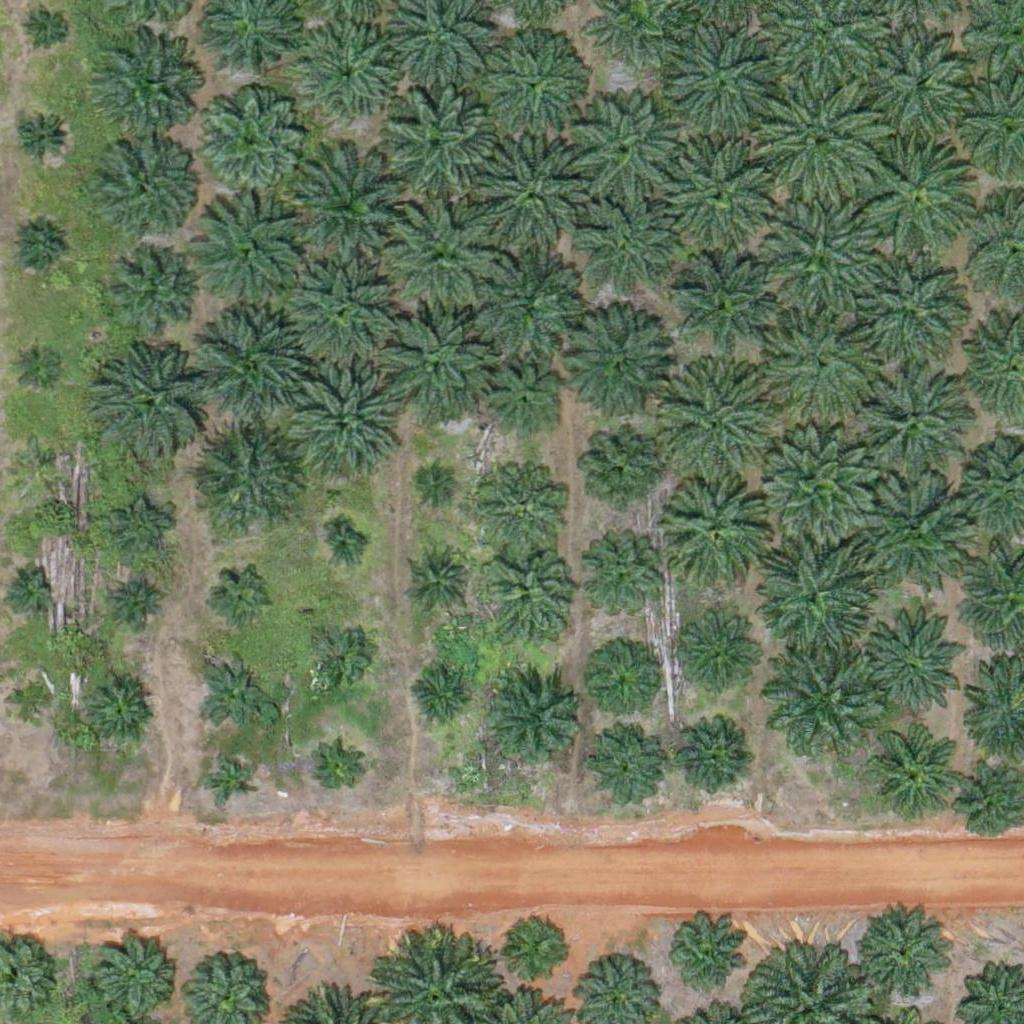Kelapa_Sawit: (290, 146, 415, 272), (88, 340, 213, 466), (757, 73, 882, 198), (285, 254, 398, 368), (195, 199, 308, 313), (193, 84, 306, 198), (865, 142, 978, 255), (855, 247, 968, 360), (852, 365, 965, 478), (765, 639, 878, 752), (655, 471, 768, 584), (558, 311, 671, 424), (476, 139, 589, 252), (462, 240, 575, 353), (283, 363, 396, 476), (196, 305, 309, 418), (187, 420, 300, 533), (865, 28, 978, 141), (573, 91, 686, 204), (376, 300, 488, 414), (90, 35, 202, 149), (861, 469, 973, 582), (857, 615, 969, 728), (764, 196, 876, 309), (762, 305, 874, 418), (760, 424, 872, 537), (756, 539, 868, 652), (658, 361, 770, 474), (387, 198, 499, 311), (663, 22, 775, 135), (662, 134, 774, 247), (382, 88, 494, 201), (855, 905, 955, 1006), (672, 258, 772, 359), (481, 670, 581, 771), (484, 36, 584, 137), (96, 133, 196, 234), (300, 23, 400, 123), (865, 727, 953, 815), (476, 461, 564, 549), (484, 555, 572, 643), (106, 250, 194, 338), (663, 913, 750, 1001), (91, 935, 178, 1023), (670, 608, 757, 696), (581, 205, 668, 293), (584, 431, 659, 507), (678, 724, 753, 800), (586, 546, 661, 622), (589, 728, 664, 804), (482, 364, 557, 440), (81, 672, 156, 747), (197, 654, 272, 729), (586, 651, 649, 714), (410, 669, 473, 732), (507, 916, 570, 979), (305, 624, 368, 687), (960, 768, 1023, 831), (10, 106, 73, 169), (109, 497, 171, 560), (213, 566, 275, 629), (7, 218, 69, 281), (311, 746, 361, 797), (115, 575, 165, 626), (204, 755, 254, 806), (13, 335, 63, 386), (12, 432, 62, 483), (2, 561, 52, 612), (413, 554, 463, 604), (6, 677, 56, 727), (22, 5, 72, 55), (421, 465, 459, 503), (326, 527, 363, 565)
